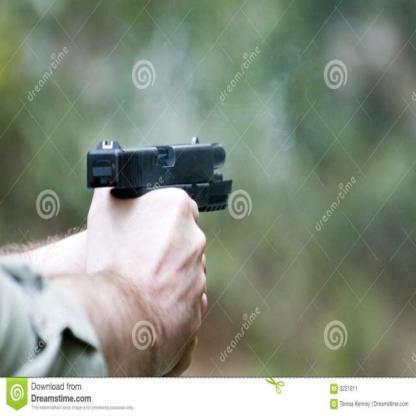handgun: (91, 137, 235, 214)
